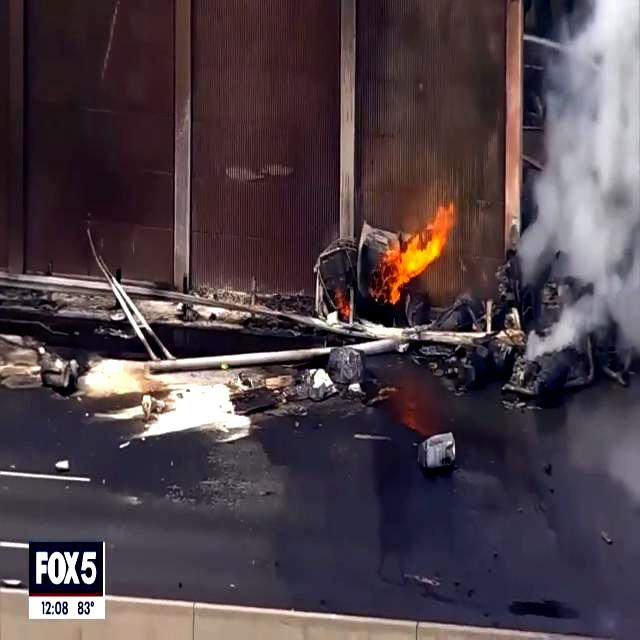fire: (381, 205, 457, 303)
